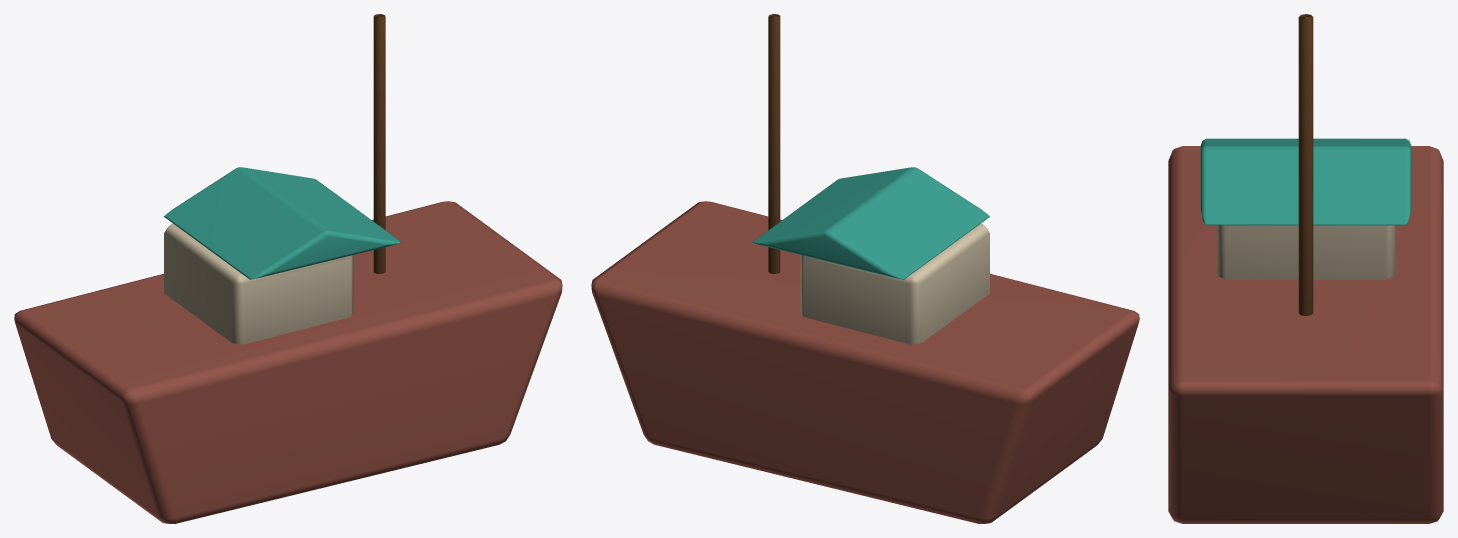
The model's file is boat.glb.
3 renders of one model, left to right at view 1: azimuth 30°, elevation 25°; view 2: azimuth 150°, elevation 25°; view 3: azimuth 270°, elevation 25°, orthographic. The views are drawn at different scales.
Visible parts, largest first — view 1: boat; view 2: boat; view 3: boat.
Part boxes in pixels (<box>): boat: <box>14,14,562,523</box>; boat: <box>591,14,1139,523</box>; boat: <box>1168,14,1443,523</box>.
Size of the model in its own units: 3.64 by 3.2 by 1.7.
